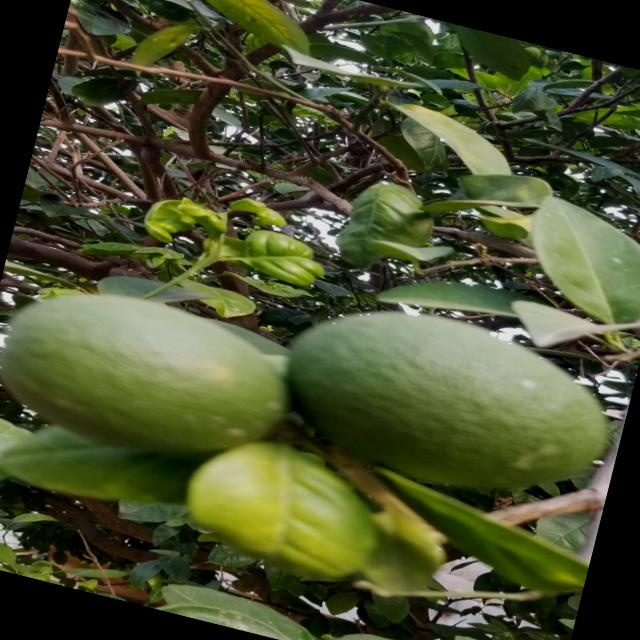agrume: (257, 278, 636, 534), (0, 256, 303, 482)
